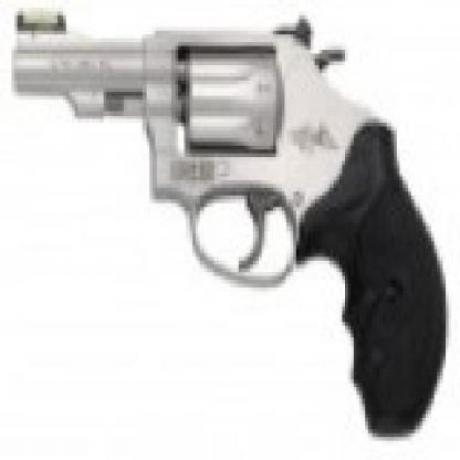weapon: (13, 20, 436, 420)
